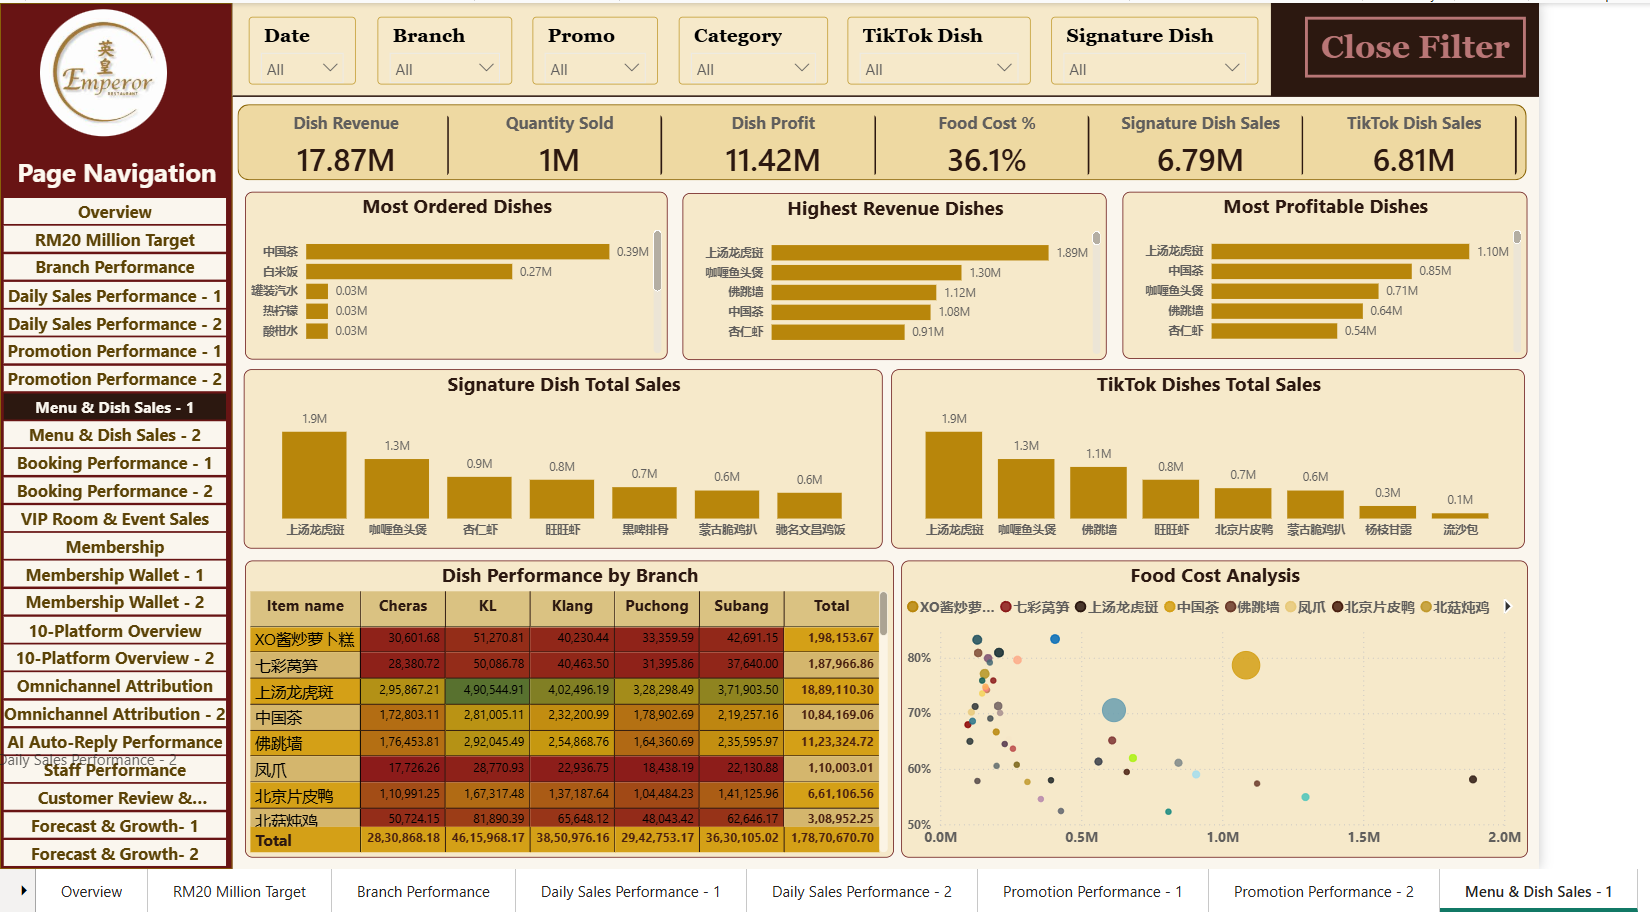

Layout of this report page (visuals, bound fields, positions):
{"tool":"powerbi","page":{"name":"Menu & Dish Sales - 1","canvas":[1600,900],"ordinal":7},"visuals":[{"type":"clusteredBarChart","title":"Most Ordered Dishes","fields":{"Category":["Dim_MenuItem.ItemNameCN"],"Y":["__DAX_Measures.Quantity Sold"]},"box":[254.2,196,439.1,174.1],"z":0},{"type":"clusteredBarChart","title":"Highest Revenue Dishes","fields":{"Category":["Dim_MenuItem.ItemNameCN"],"Y":["__DAX_Measures.Dish Sales"]},"box":[709.5,198,440.8,173.8],"z":1000},{"type":"clusteredBarChart","title":"Most Profitable Dishes","fields":{"Category":["Dim_MenuItem.ItemNameCN"],"Y":["__DAX_Measures.Dish Profit"]},"box":[1166.5,196.2,420.7,173.8],"z":2000},{"type":"clusteredColumnChart","title":"Signature Dish Total Sales","fields":{"Category":["Dim_MenuItem.ItemNameCN"],"Y":["__DAX_Measures.Dish Sales"]},"box":[253.8,380.9,663.9,186.6],"z":3000},{"type":"clusteredColumnChart","title":"TikTok Dishes Total Sales","fields":{"Category":["Dim_MenuItem.ItemNameCN"],"Y":["__DAX_Measures.Dish Sales"]},"box":[926.9,380.9,658.4,186.6],"z":4000},{"type":"pivotTable","title":"Dish Performance by Branch","fields":{"Columns":["Dim_Branch.BranchName"],"Rows":["Dim_MenuItem.ItemNameCN"],"Values":["__DAX_Measures.Dish Sales"]},"box":[254.2,579.6,674.2,309.2],"z":5000},{"type":"shape","box":[0,0,241.6,900.2],"z":6000},{"type":"shape","box":[247,104.6,1339.6,78.9],"z":7000},{"type":"cardVisual","fields":{"Data":["__DAX_Measures.Dish Sales","__DAX_Measures.Quantity Sold","__DAX_Measures.Dish Profit","__DAX_Measures.Food Cost %","__DAX_Measures.Signature Dish Sales","__DAX_Measures.TikTok Dish Sales"]},"box":[241.9,104.6,1346.5,85.8],"z":8000},{"type":"scatterChart","title":"Food Cost Analysis","fields":{"Series":["Dim_MenuItem.ItemNameCN"],"Size":["__DAX_Measures.Quantity Sold"],"X":["__DAX_Measures.Dish Sales"],"Y":["__DAX_Measures.Dish Profit Margin %"]},"box":[936.1,579.2,651.1,309.1],"z":9000},{"type":"textbox","box":[241.3,0,1359,97.4],"z":10000},{"type":"actionButton","title":"Close Filter","box":[1355.6,14.5,229.6,63.3],"z":11000},{"type":"shape","box":[241.6,0,1079.5,96.1],"z":13000},{"type":"slicer","fields":{"Values":["Dim_Date.Date"]},"box":[259,14.6,111.5,70.3],"z":14000},{"type":"slicer","fields":{"Values":["Dim_Branch.BranchName"]},"box":[391.9,14.6,140,70.3],"z":15000},{"type":"slicer","fields":{"Values":["Dim_Promotion.Promo Name"]},"box":[553.4,14.6,130,70.3],"z":16000},{"type":"slicer","fields":{"Values":["Dim_MenuItem.Category"]},"box":[704.8,14.6,155,70.3],"z":17000},{"type":"slicer","fields":{"Values":["Dim_MenuItem.IsSignature"]},"box":[1092.6,14.6,215,70.3],"z":18000},{"type":"slicer","fields":{"Values":["Dim_MenuItem.IsTikTokSuitable"]},"box":[881.2,14.6,190,70.3],"z":19000},{"type":"image","box":[41.9,6.2,131.9,131.9],"z":22000},{"type":"pageNavigator","box":[4.4,202.3,231.1,697.7],"z":22001},{"type":"textbox","box":[0,152.6,242.7,46.5],"z":22002}]}

Visuals, with their boxes on the page's 1600x900 design canvas (x1, y1, x2, y2). These are canvas units, not pixel positions in the 1650x912 screenshot, which may show the page scaled, cropped or inside an application window:
"Most Ordered Dishes" clusteredBarChart: (254, 196, 693, 370)
"Highest Revenue Dishes" clusteredBarChart: (710, 198, 1150, 372)
"Most Profitable Dishes" clusteredBarChart: (1166, 196, 1587, 370)
"Signature Dish Total Sales" clusteredColumnChart: (254, 381, 918, 568)
"TikTok Dishes Total Sales" clusteredColumnChart: (927, 381, 1585, 568)
"Dish Performance by Branch" pivotTable: (254, 580, 928, 889)
shape: (0, 0, 242, 900)
shape: (247, 105, 1587, 184)
cardVisual - __DAX_Measures.Dish Sales x __DAX_Measures.Quantity Sold: (242, 105, 1588, 190)
"Food Cost Analysis" scatterChart: (936, 579, 1587, 888)
textbox: (241, 0, 1600, 97)
"Close Filter" actionButton: (1356, 14, 1585, 78)
shape: (242, 0, 1321, 96)
slicer - Dim_Date.Date: (259, 15, 370, 85)
slicer - Dim_Branch.BranchName: (392, 15, 532, 85)
slicer - Dim_Promotion.Promo Name: (553, 15, 683, 85)
slicer - Dim_MenuItem.Category: (705, 15, 860, 85)
slicer - Dim_MenuItem.IsSignature: (1093, 15, 1308, 85)
slicer - Dim_MenuItem.IsTikTokSuitable: (881, 15, 1071, 85)
image: (42, 6, 174, 138)
pageNavigator: (4, 202, 236, 900)
textbox: (0, 153, 243, 199)
